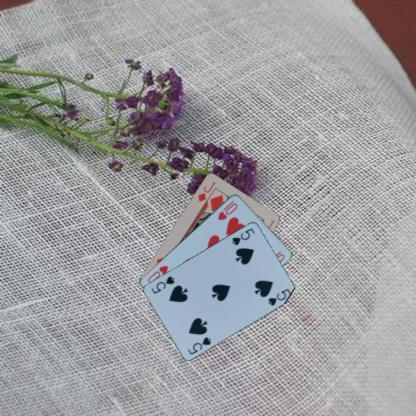10h: (216, 198, 238, 221)
5s: (186, 334, 212, 356), (229, 225, 256, 246)
Jd: (195, 180, 217, 202)
